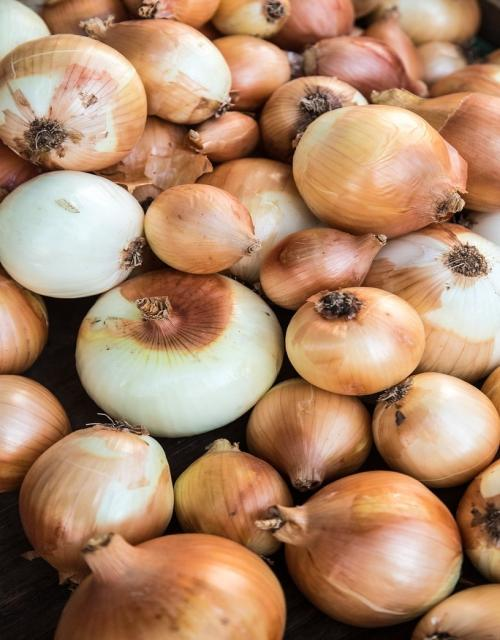Cebolla-: (24, 187, 316, 432)
